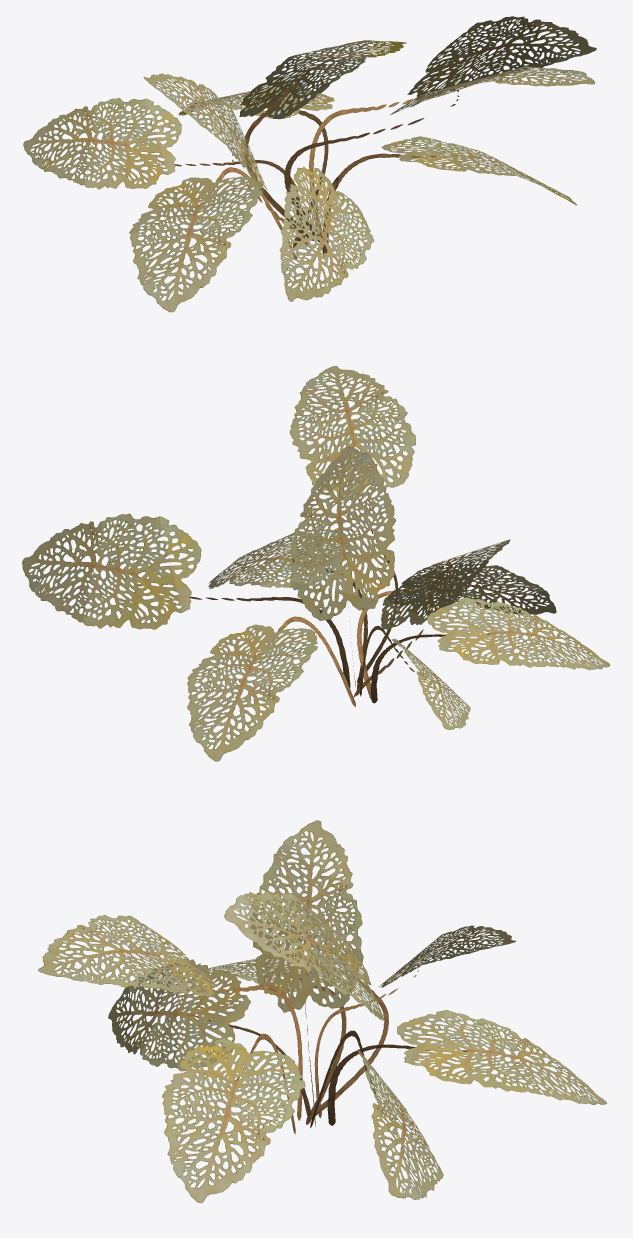
The model's file is Spin Reef A3.fbx.
The picture shows the model from 3 angles, top to bottom: view 1: azimuth 30°, elevation 25°; view 2: azimuth 150°, elevation 25°; view 3: azimuth 270°, elevation 25°; orthographic projection. The views are drawn at different scales.
Parts seen in each view (by area): view 1: Spin Reef A3; view 2: Spin Reef A3; view 3: Spin Reef A3.
Part boxes in pixels (x1,y1,x2,y2): Spin Reef A3: (23,16,596,312); Spin Reef A3: (22,366,609,761); Spin Reef A3: (38,820,606,1203).
Size of the model in its own units: 220 by 94.59 by 196.
